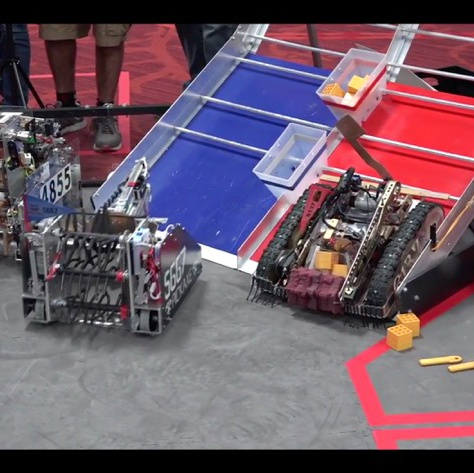robot: (17, 153, 208, 342), (249, 165, 444, 329), (0, 107, 79, 268)
